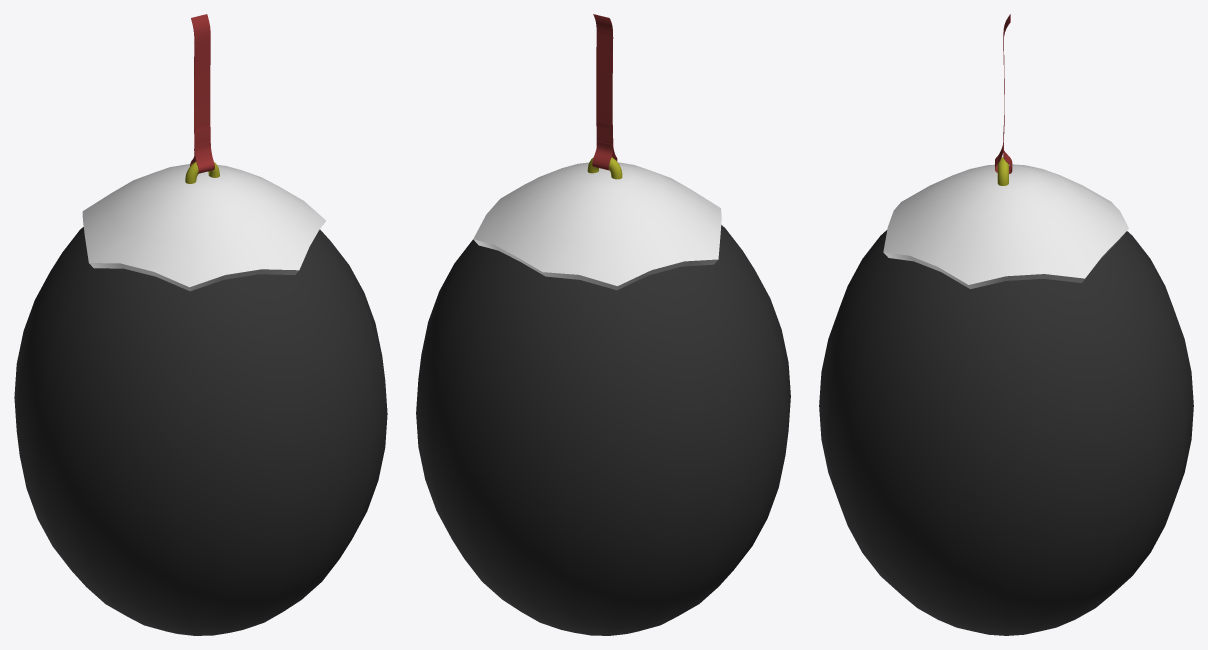
Rendered from issue7739.fbx.
The picture shows the model from 3 angles, left to right: view 1: azimuth 30°, elevation 25°; view 2: azimuth 150°, elevation 25°; view 3: azimuth 270°, elevation 25°; orthographic projection.
Visible parts, largest first — view 1: pCube4; view 2: pCube4; view 3: pCube4.
Part boxes in pixels (x1,y1,x2,y2): pCube4: [14, 14, 387, 635]; pCube4: [416, 14, 790, 635]; pCube4: [819, 14, 1193, 635].
Bounding box in the file's own units: 8.01 × 14.24 × 8.01.
